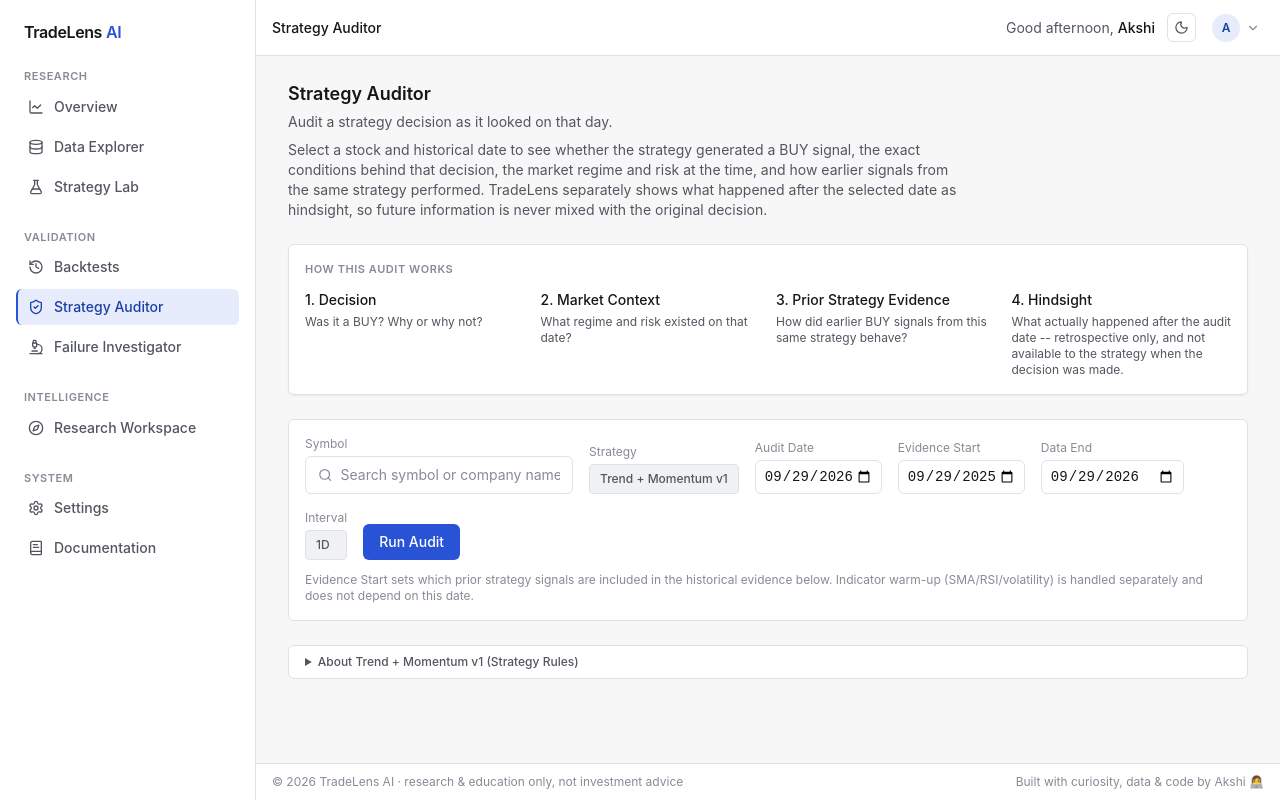
Test: Strategy Auditor introduction and education content › explains NO_SIGNAL and INSUFFICIENT_DATA semantics in the strategy rules disclosure
The width and height of the screenshot is (1280, 800).
What coordinates should you click on to do the following:
click the heading "About Trend + Momentum v1 (Strategy Rules)"
I would click on:
 (448, 661)
Its box is [318,654,579,668].
(page scrolled)
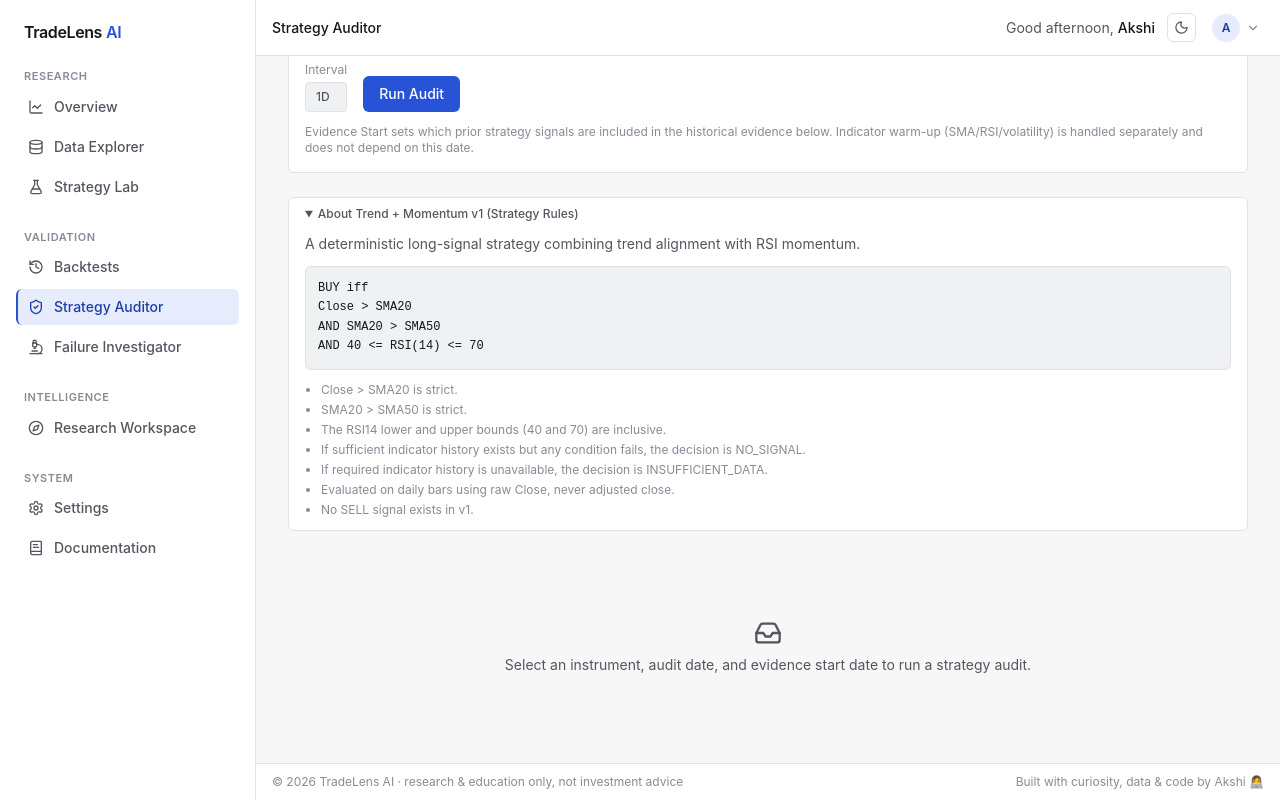
Check: the list item "any condition fails, the decision is NO_SIGNAL" is shown, box [321,442,806,456]
Check: the list item "indicator history is unavailable, the decision is INSUFFICIENT_DATA" is shown, box [321,462,768,476]
Check: the list item "No SELL signal exists in v1." is shown, box [321,502,474,516]
